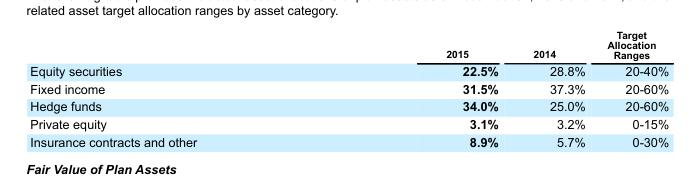table: (29, 28, 668, 148)
table column: (29, 28, 320, 148), (320, 28, 515, 148), (515, 28, 595, 148), (595, 28, 668, 148)
table column header: (29, 28, 668, 61)
table row: (29, 28, 668, 61), (29, 61, 668, 79), (29, 79, 668, 97), (29, 114, 668, 132), (29, 97, 668, 114), (29, 132, 668, 148)
